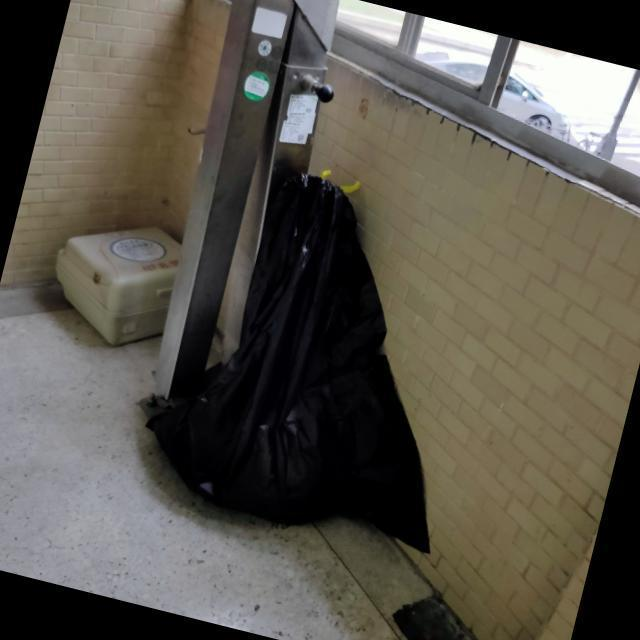garbage: (110, 136, 526, 582)
